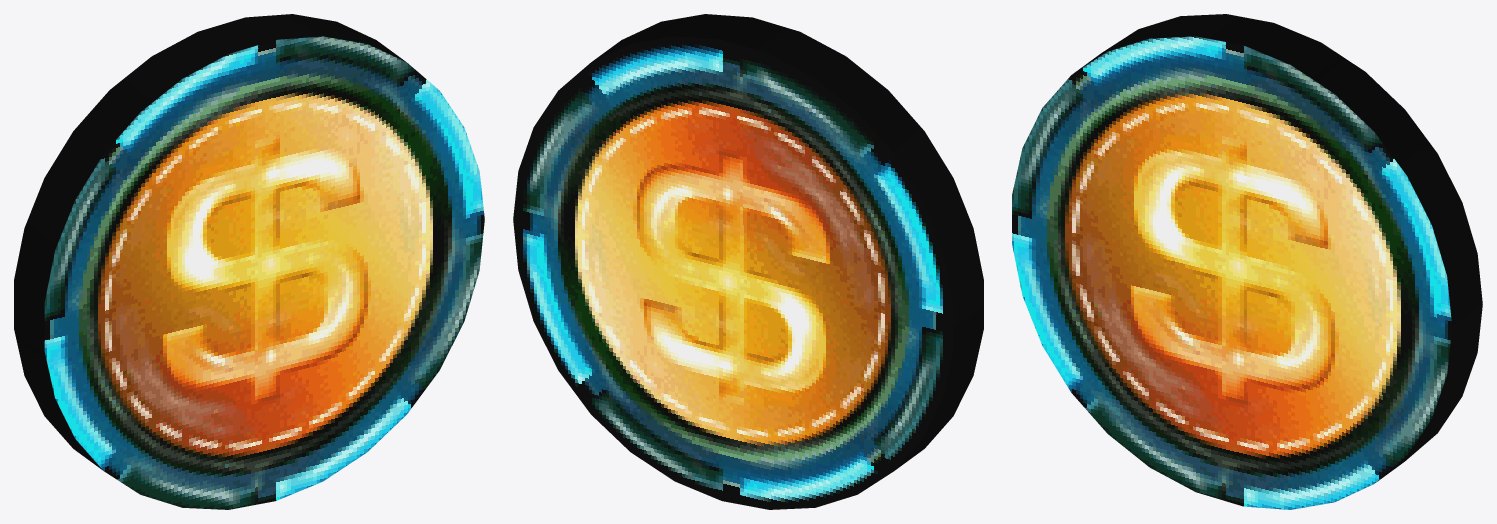
Rendered from ps2_save-icons_highrollerscasino.glb.
3 renders of one model, left to right at view 1: azimuth 30°, elevation 25°; view 2: azimuth 150°, elevation 25°; view 3: azimuth 330°, elevation 25°, orthographic.
Parts seen in each view (by area): view 1: view.ico; view 2: view.ico; view 3: view.ico.
Boxes of the visible parts, box(x1,y1,x2,y2) form: view.ico: box(14, 14, 484, 509); view.ico: box(513, 14, 983, 509); view.ico: box(1012, 14, 1482, 509).
Bounding box in the file's own units: 4.78 × 4.79 × 0.5757.
1 material, 1 textured.
